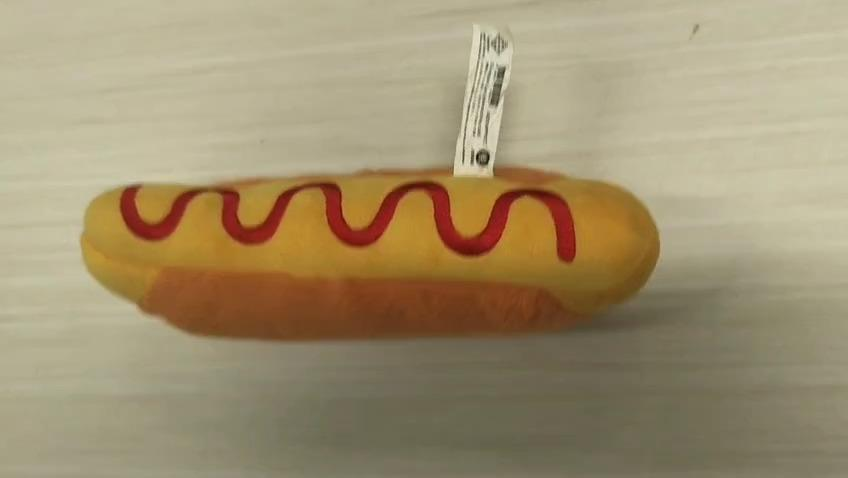hotdog: (79, 163, 660, 341)
